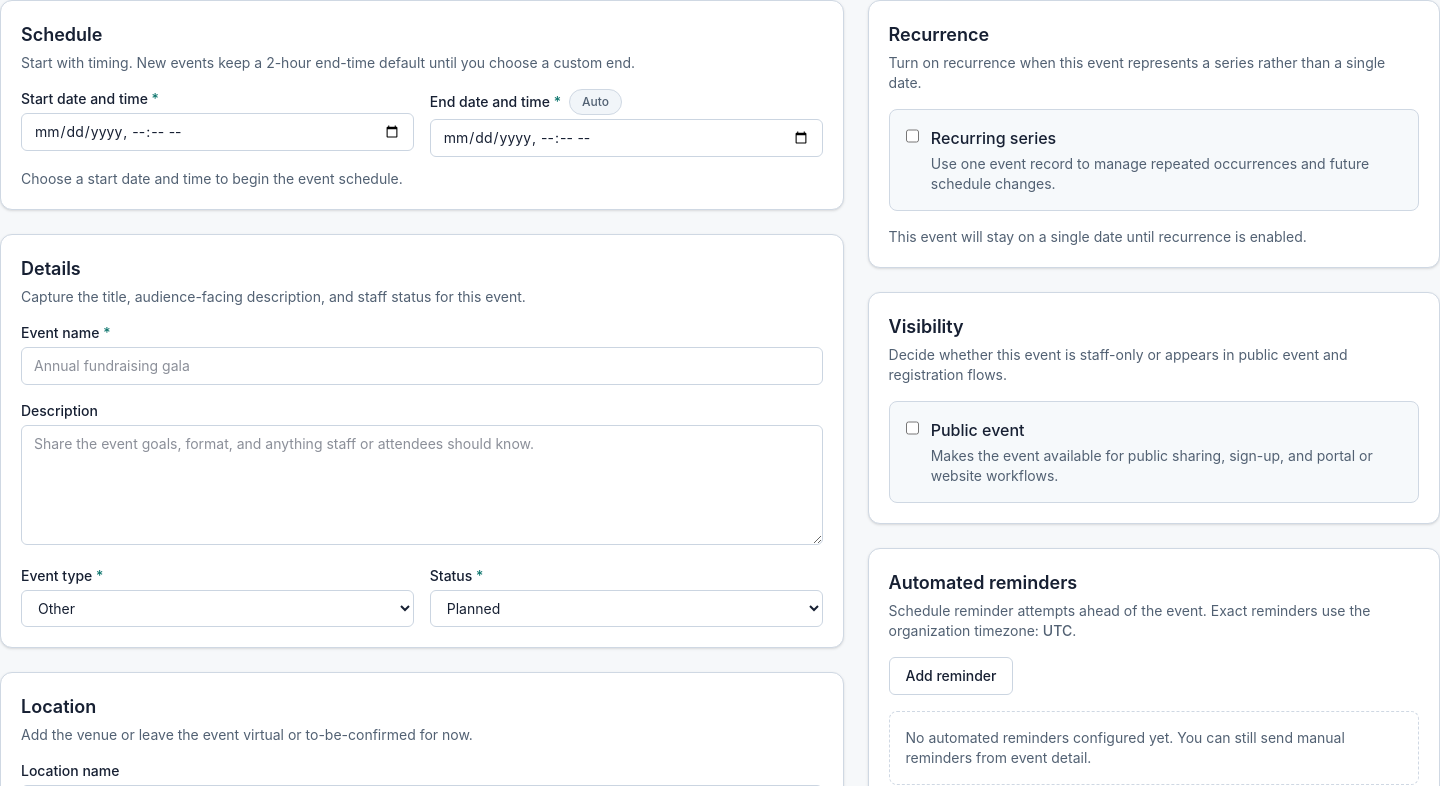
it: EventEditorForm › defaults end time to two hours after the start time on create and keeps it synced
Step 1. Type "2026-06-15T10:00" into the field labelled "Start date and time *" → (217, 132), box [21,113,414,151]
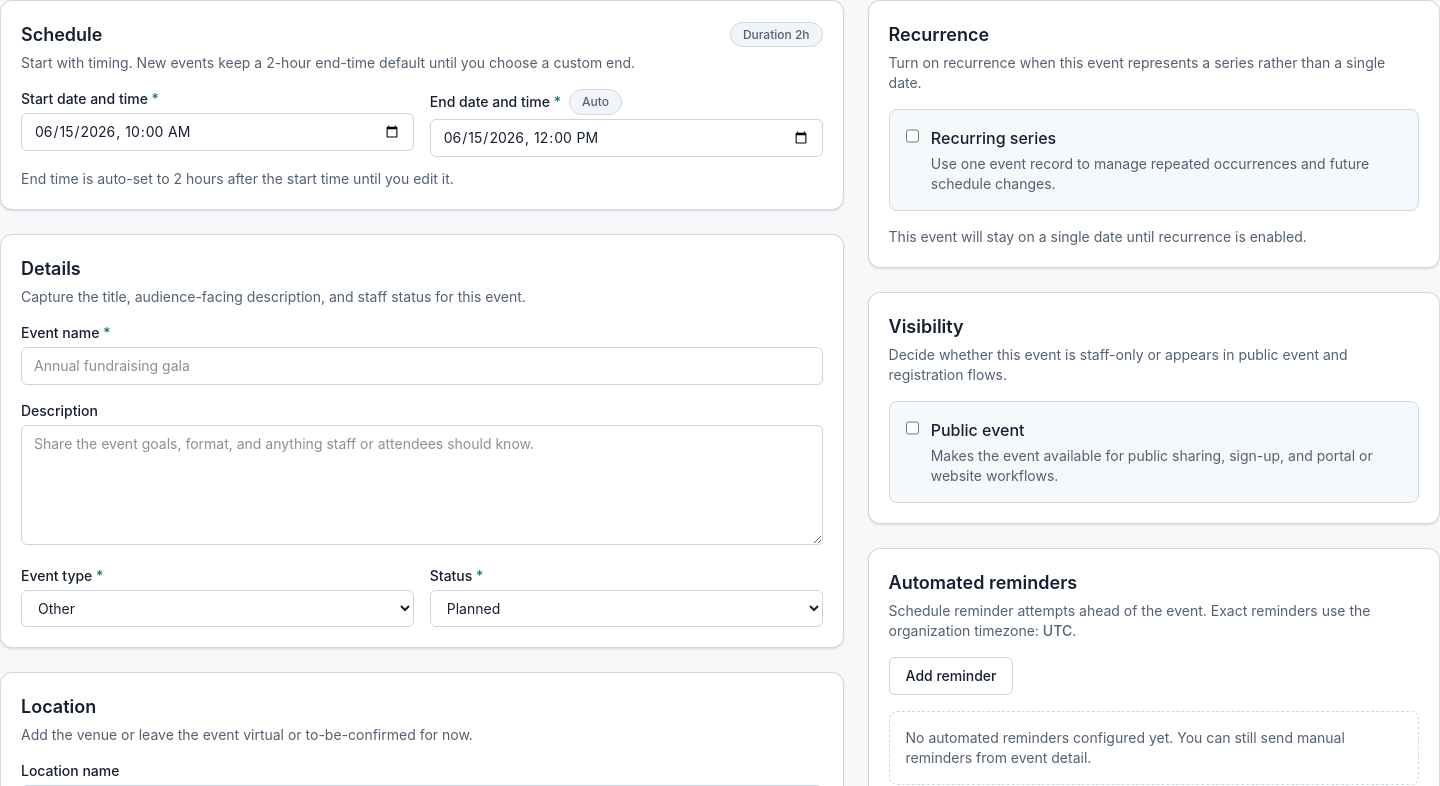
Now the field labelled "End date and time * Auto" holds "2026-06-15T12:00", box [430,119,823,157]
Step 2. Replace the text in the field labelled "Start date and time *" with "2026-06-15T13:30" → (217, 132), box [21,113,414,151]
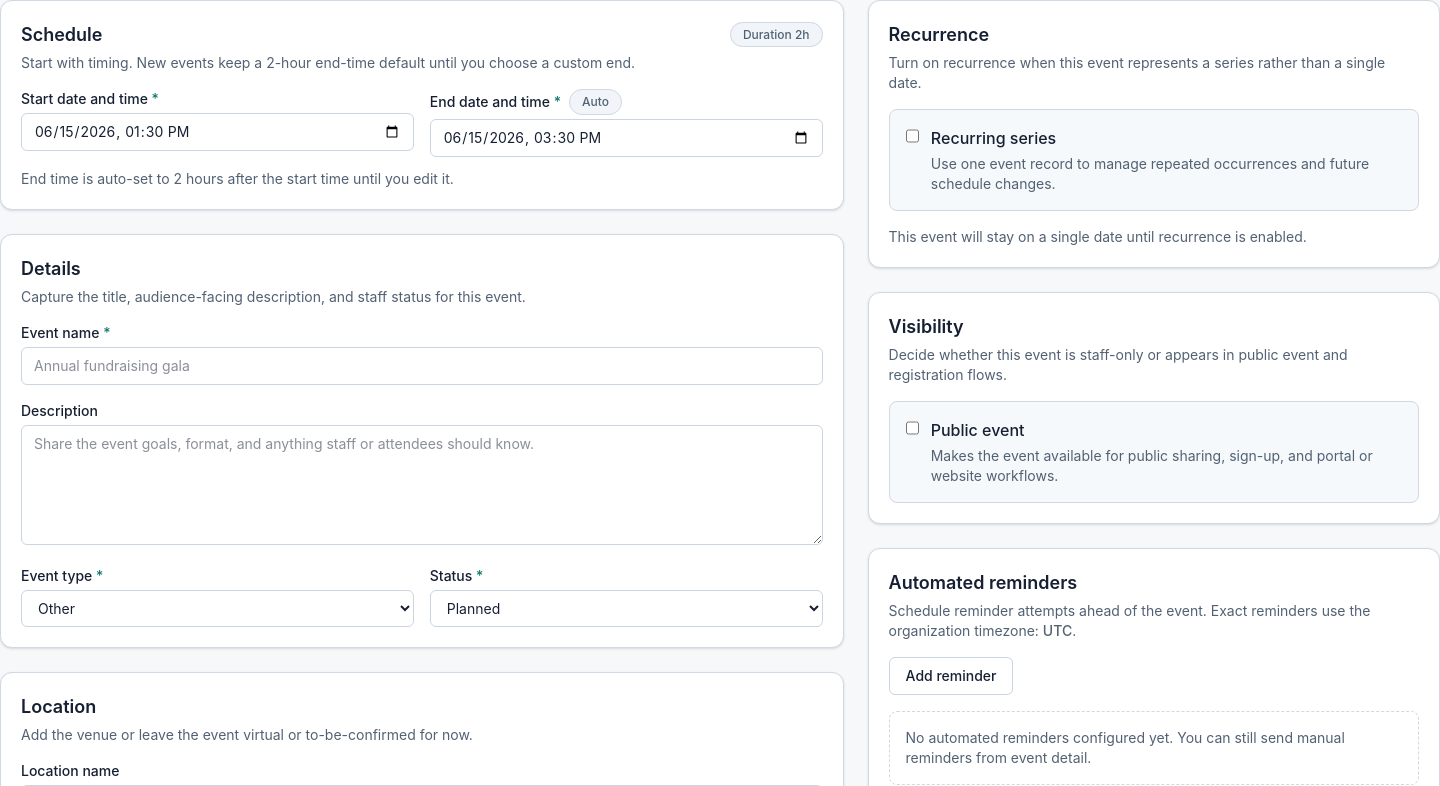
Now the text "End time is auto-set to 2 hours after the start time" is shown, box [21,170,454,187]
Now the field labelled "End date and time * Auto" holds "2026-06-15T15:30", box [430,119,823,157]
